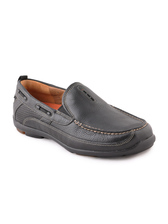shoes: (8, 72, 158, 164)
